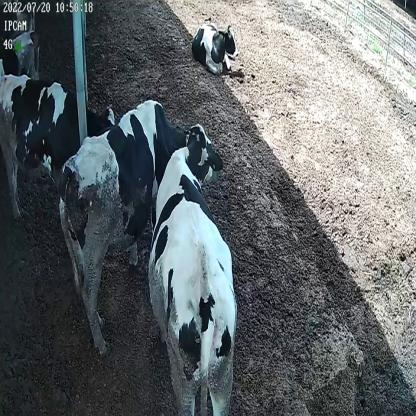cow: (59, 99, 225, 354), (150, 129, 238, 414), (0, 69, 116, 221), (188, 14, 238, 77)
